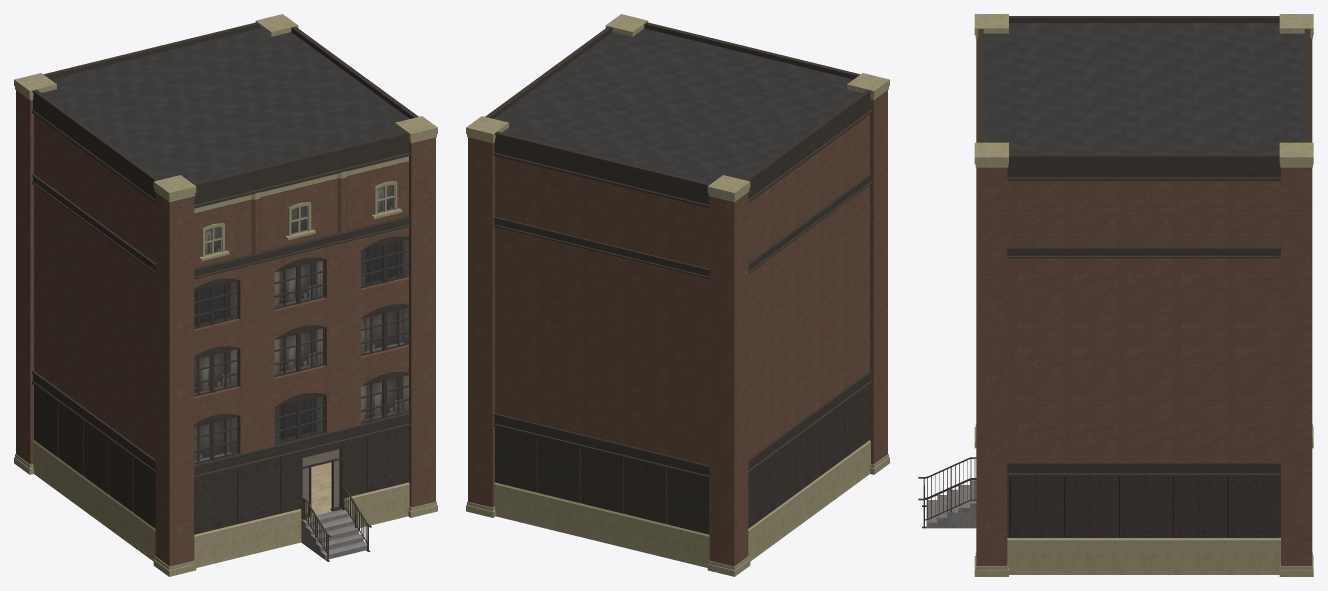
File: Building_Small_1.gltf
3 views of the same model, side by side, from view 1: azimuth 30°, elevation 25°; view 2: azimuth 150°, elevation 25°; view 3: azimuth 270°, elevation 25° (orthographic). The views are drawn at different scales.
Parts seen in each view (by area): view 1: Building_Small_1; view 2: Building_Small_1; view 3: Building_Small_1.
Part boxes in pixels (x1,y1,x2,y2): Building_Small_1: [14, 14, 437, 576]; Building_Small_1: [466, 14, 889, 576]; Building_Small_1: [918, 14, 1313, 576].
Bounding box in the file's own units: 12.46 × 17.03 × 14.54.
Materials: 13 (12 with a texture image).
